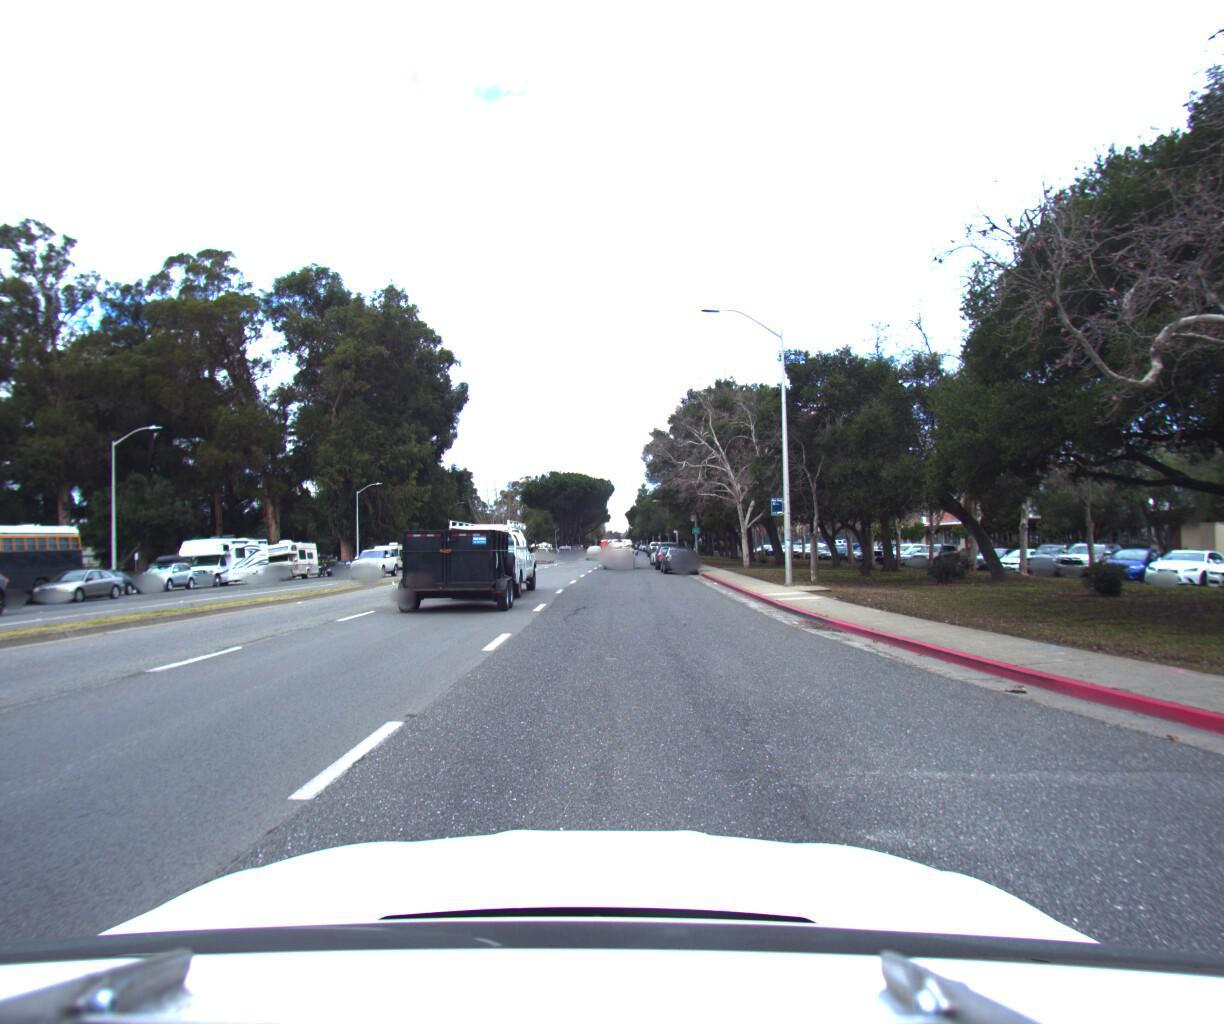car: (390, 502, 545, 614), (28, 560, 135, 603), (126, 547, 207, 586), (57, 559, 148, 593), (348, 539, 402, 571), (597, 528, 635, 564), (656, 536, 700, 567), (653, 536, 682, 561), (323, 553, 358, 570), (532, 537, 556, 556), (583, 535, 605, 552)
other_vehicle: (169, 526, 277, 582), (253, 530, 324, 575)
